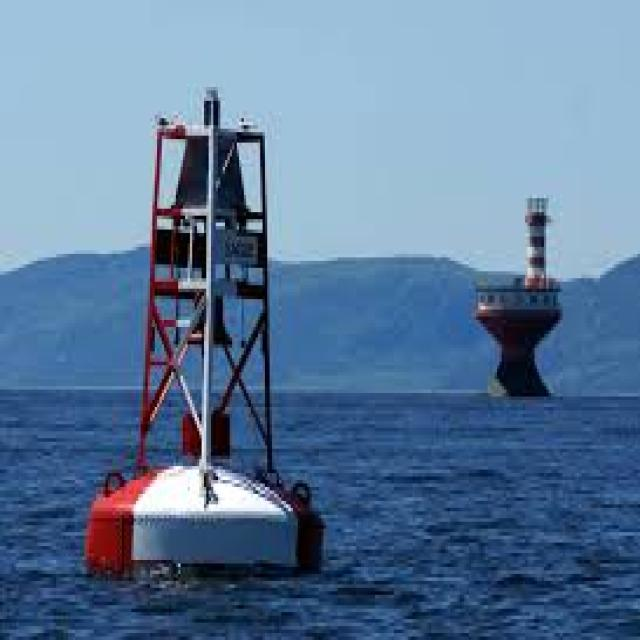marque: (76, 41, 334, 602)
